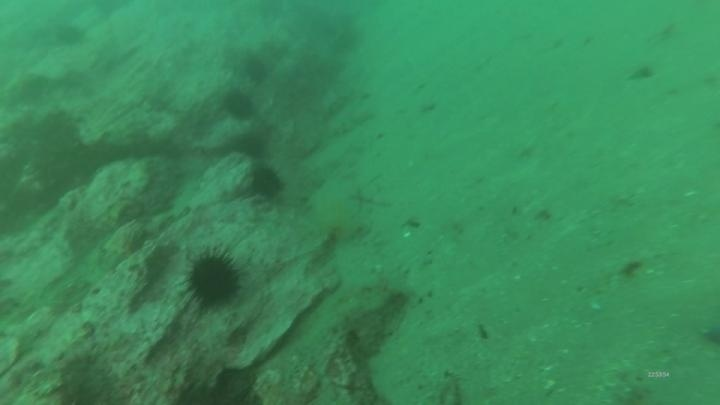echinus: (181, 246, 246, 311), (246, 162, 286, 202), (220, 87, 258, 123), (231, 130, 269, 161), (53, 21, 88, 50), (241, 54, 271, 85)
